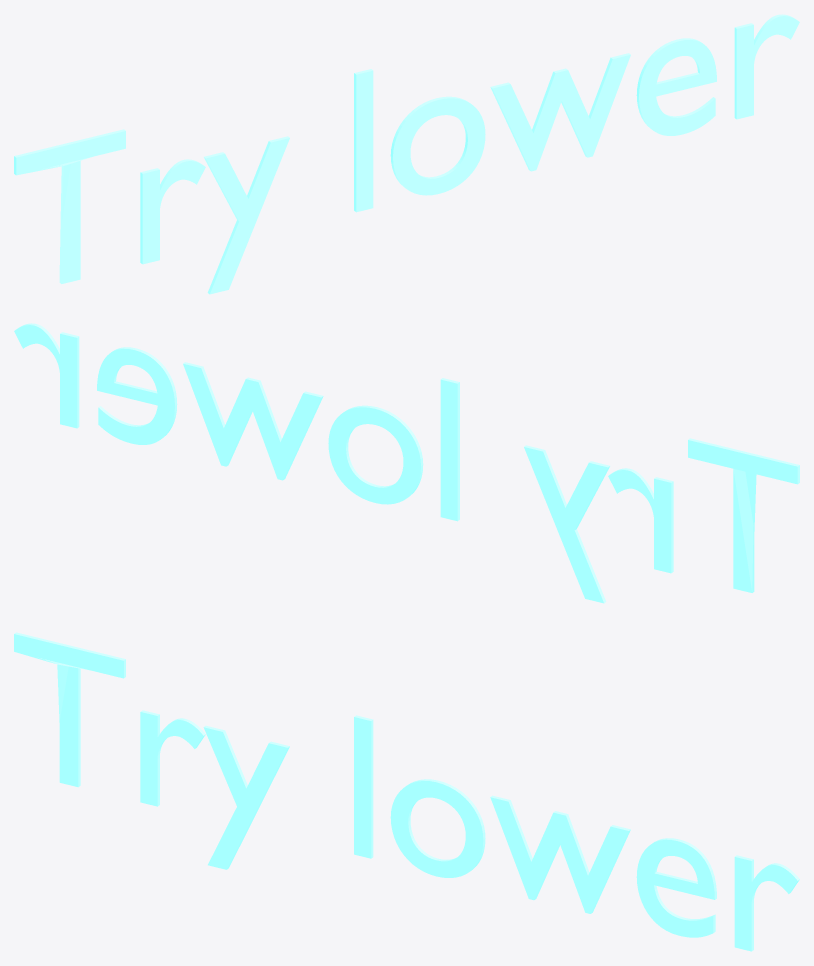
Rendered from tryLower.gltf.
The picture shows the model from 3 angles, top to bottom: view 1: azimuth 30°, elevation 25°; view 2: azimuth 150°, elevation 25°; view 3: azimuth 330°, elevation 25°; orthographic projection.
Parts seen in each view (by area): view 1: TryLower; view 2: TryLower; view 3: TryLower.
Boxes of the visible parts, left/top/right/bottom form: TryLower: left=14, top=14, right=799, bottom=294; TryLower: left=14, top=323, right=799, bottom=603; TryLower: left=14, top=632, right=799, bottom=951.
Size of the model in its own units: 4.07 by 0.912 by 0.0396.
